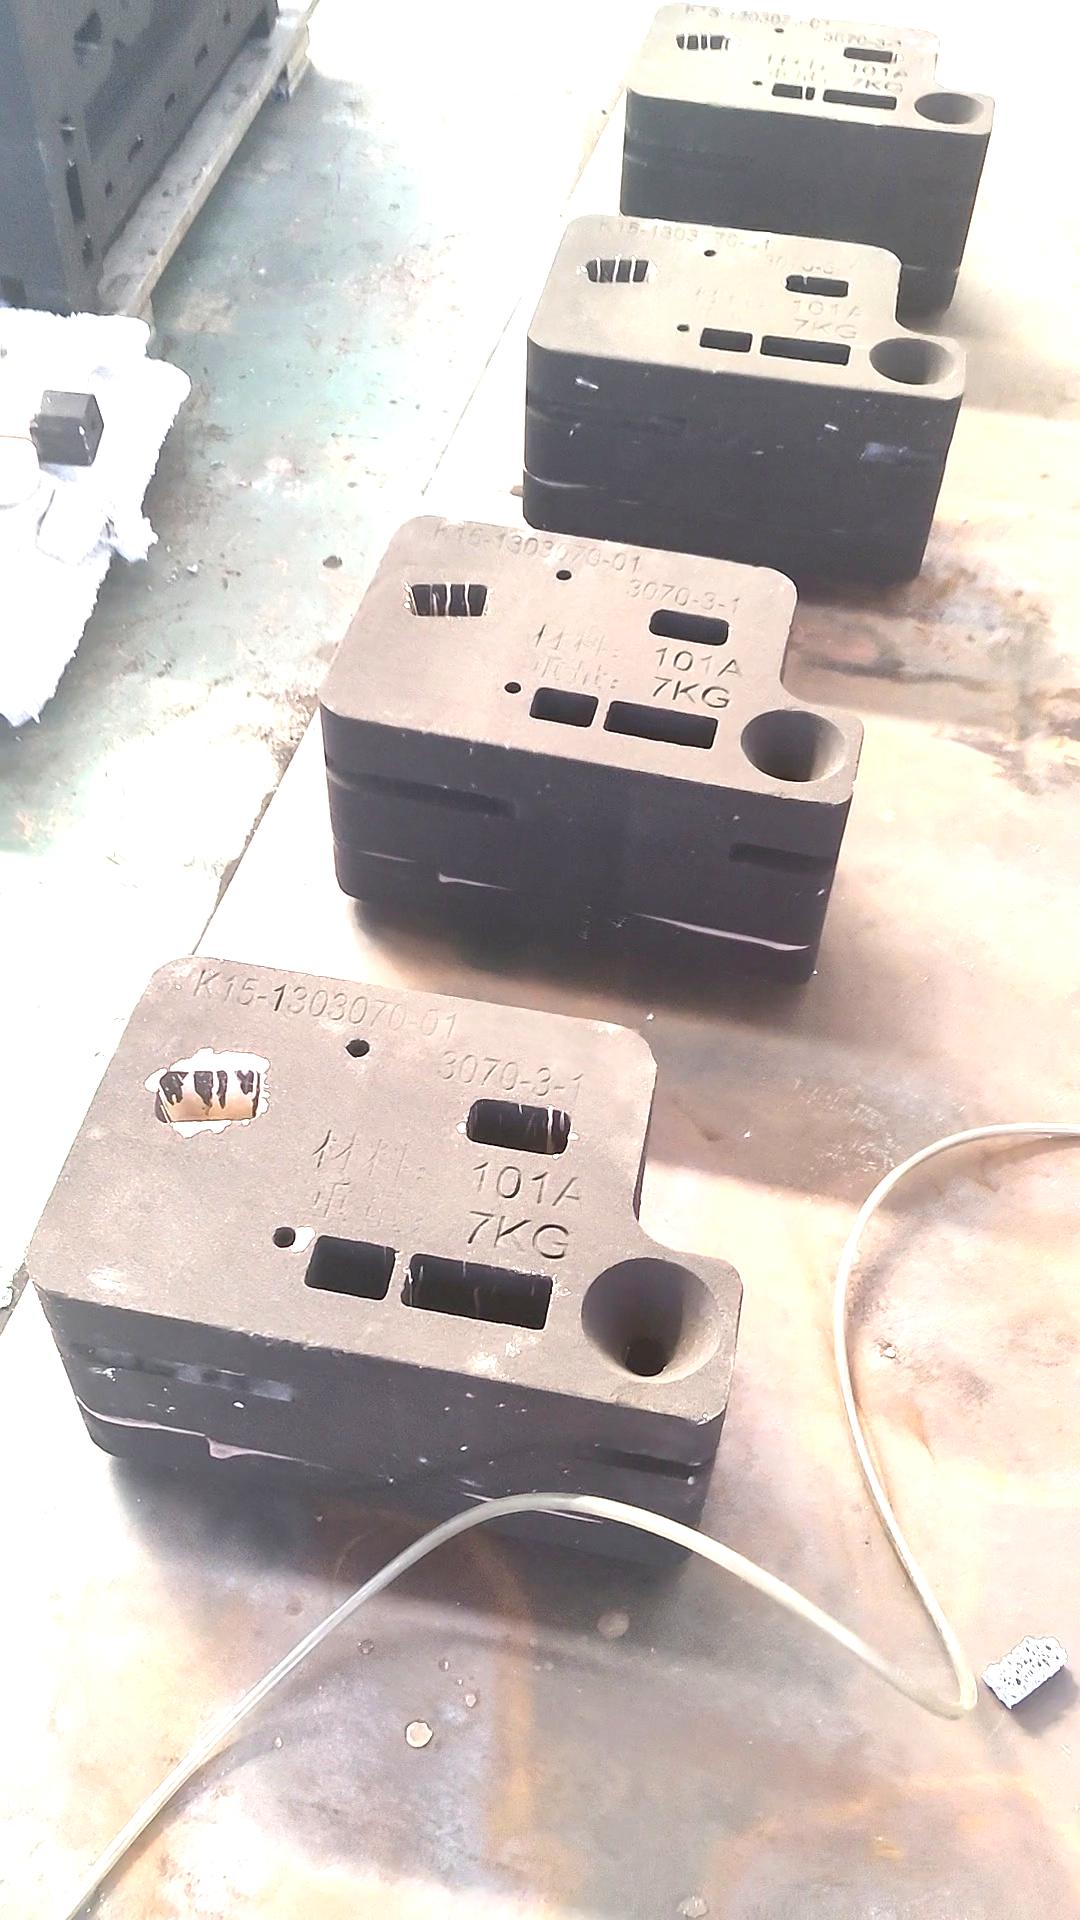pouring hole: (582, 1258, 723, 1386), (741, 709, 848, 783), (869, 338, 956, 385), (914, 92, 986, 125)
